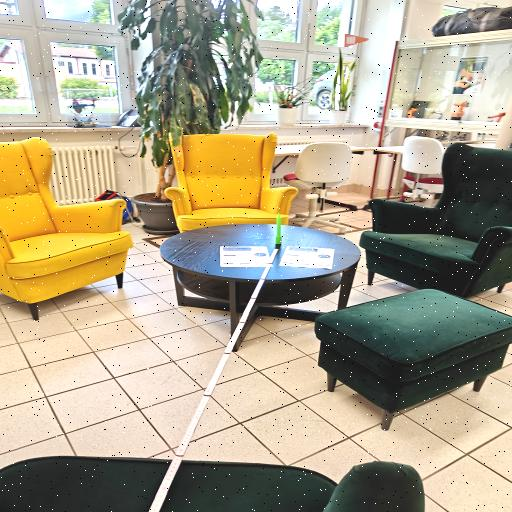Probe-Detection: (275, 213, 282, 244)
